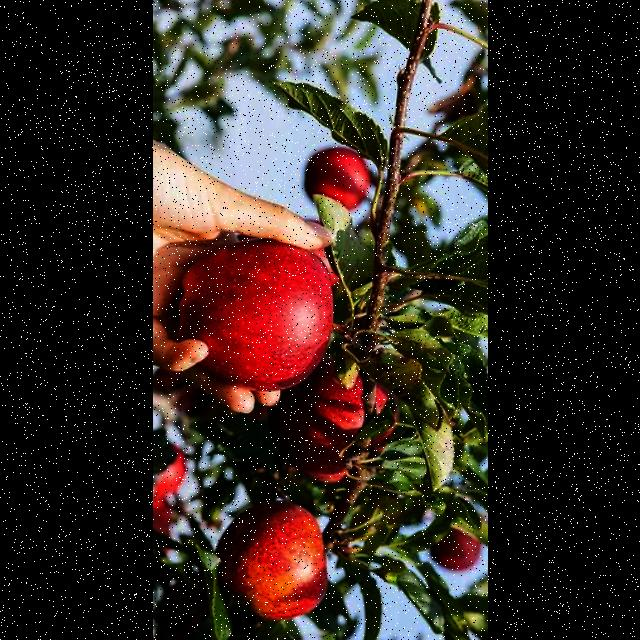Apel Segar: (154, 238, 354, 390), (263, 350, 405, 490), (198, 496, 340, 630)
